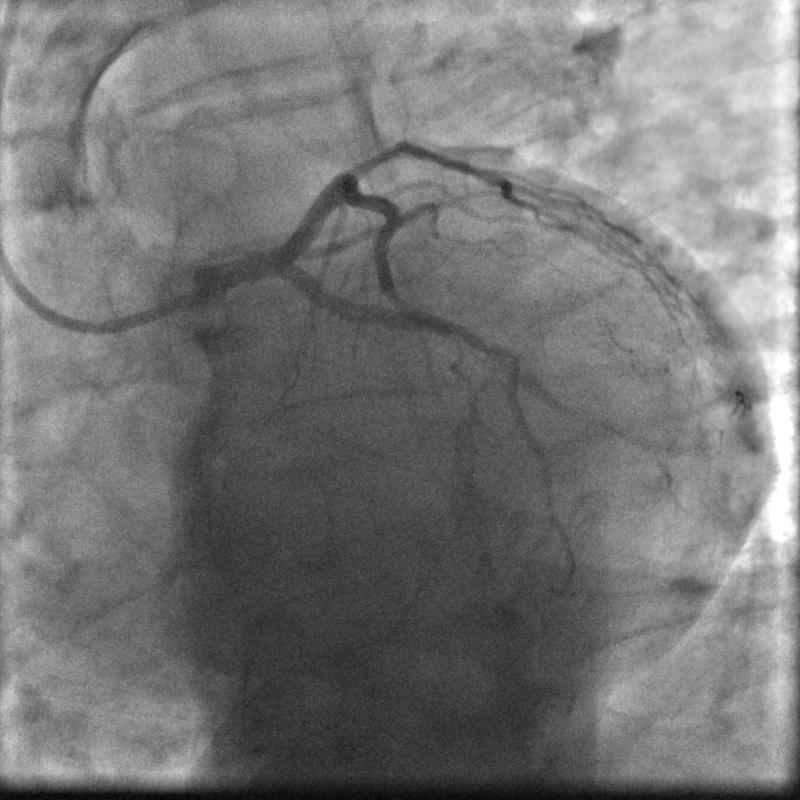Stenosis: (345, 140, 409, 172)
